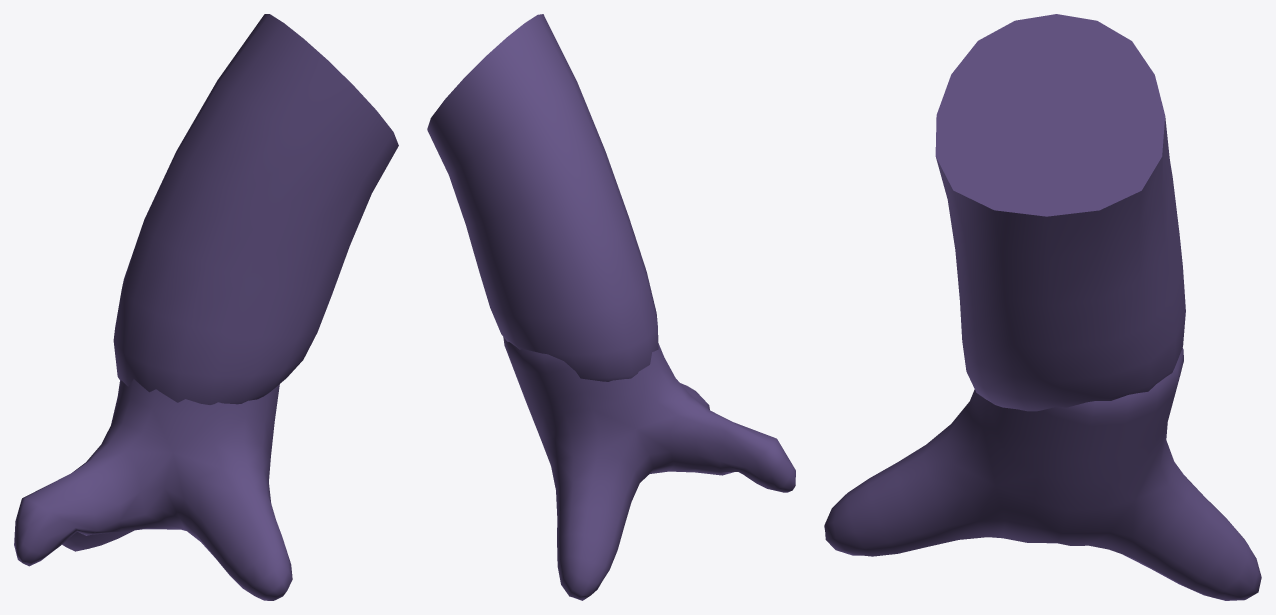
File: PurpleRightArm.fbx
3 views of the same model, side by side, from view 1: azimuth 30°, elevation 25°; view 2: azimuth 150°, elevation 25°; view 3: azimuth 270°, elevation 25° (orthographic). The views are drawn at different scales.
Visible parts, largest first — view 1: polySurface18; view 2: polySurface18; view 3: polySurface18.
Part boxes in pixels (x1,y1,x2,y2): polySurface18: [14, 14, 398, 600]; polySurface18: [427, 14, 795, 600]; polySurface18: [824, 14, 1261, 600].
Size of the model in its own units: 48.83 by 70.72 by 42.14.
